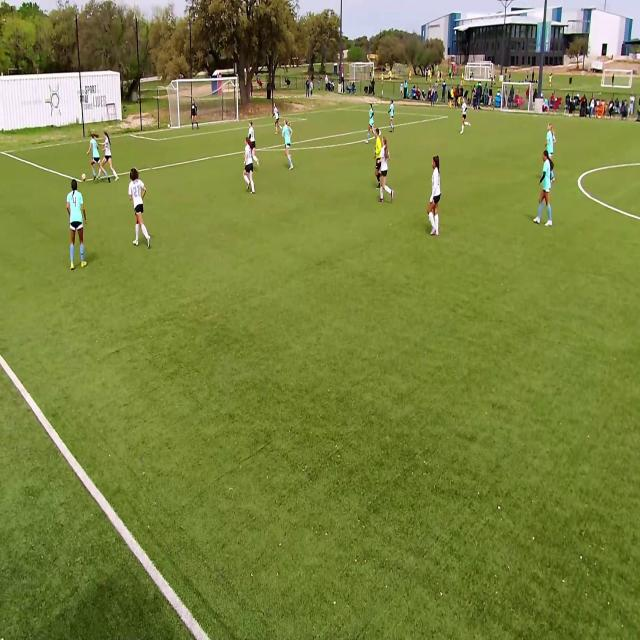ball: (80, 172, 88, 182)
team1: (67, 178, 89, 270), (537, 152, 556, 228), (90, 132, 112, 183), (281, 117, 294, 171), (545, 124, 558, 171), (367, 102, 377, 144), (390, 100, 398, 136)
team2: (128, 168, 152, 251), (376, 130, 396, 203), (430, 156, 446, 238), (99, 129, 118, 182), (242, 137, 257, 195), (249, 118, 259, 164), (462, 98, 472, 136), (274, 105, 280, 135)
